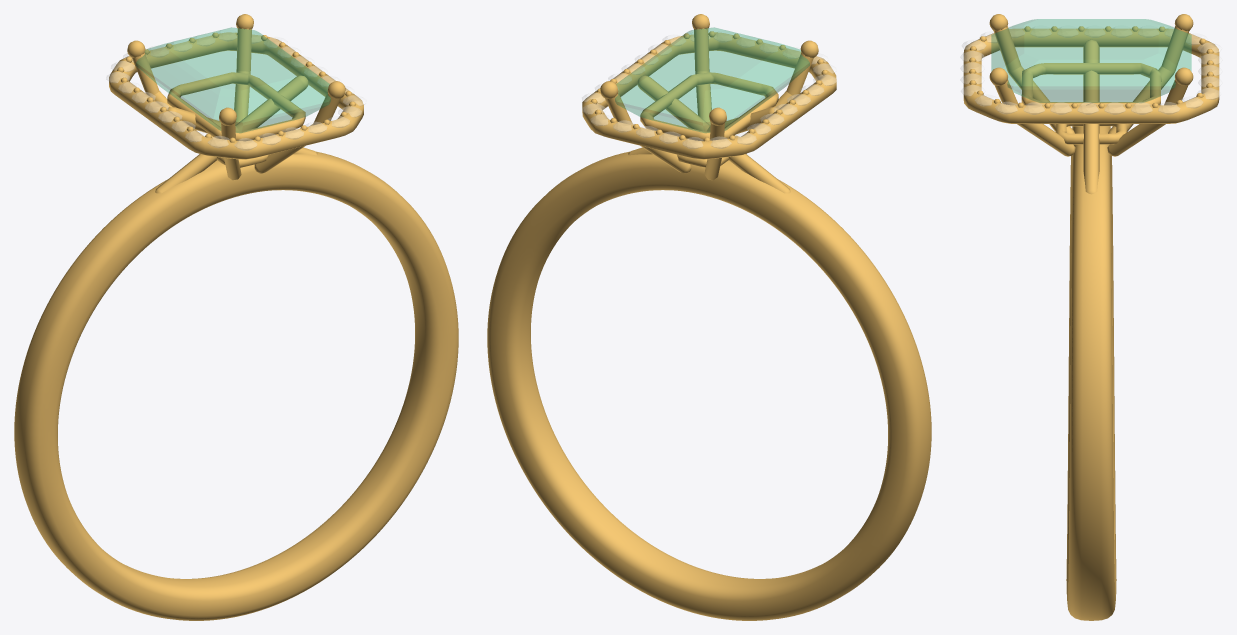
The model's file is emerald-ring.glb.
3 views of the same model, side by side, from view 1: azimuth 30°, elevation 25°; view 2: azimuth 150°, elevation 25°; view 3: azimuth 270°, elevation 25° (orthographic).
Visible parts, largest first — view 1: metal, emerald, diamond; view 2: metal, emerald, diamond; view 3: metal, emerald, diamond.
Part boxes in pixels (x1,y1,x2,y2): metal: (14,14,458,620); emerald: (136,27,330,132); diamond: (106,29,366,150); metal: (487,14,931,620); emerald: (615,27,809,132); diamond: (582,31,836,148); metal: (963,14,1219,620); emerald: (991,19,1191,102); diamond: (960,26,1222,114).
Bounding box in the file's own units: 2.03 × 2.46 × 1.05.
